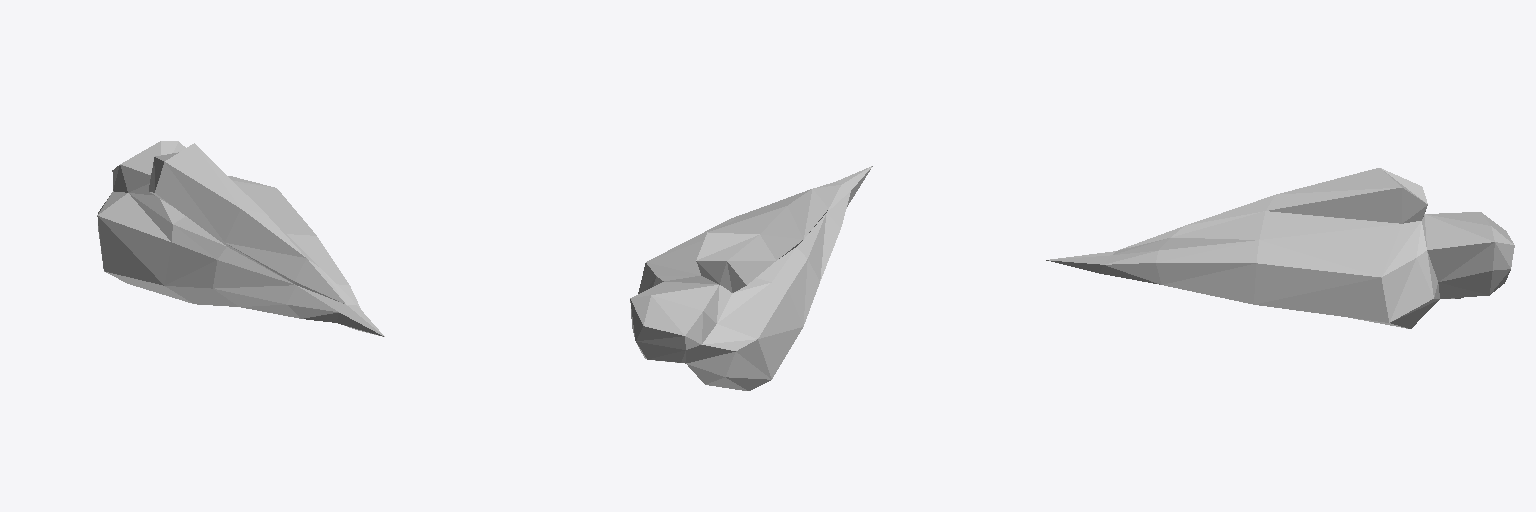
Rendered from icycle_LOW.OBJ.
The picture shows the model from 3 angles: view 1: azimuth 30°, elevation 25°; view 2: azimuth 150°, elevation 25°; view 3: azimuth 270°, elevation 25°; orthographic projection.
Parts seen in each view (by area): view 1: Plane.001; view 2: Plane.001; view 3: Plane.001.
Boxes of the visible parts, box(x1,y1,x2,y2) form: Plane.001: box(97, 141, 384, 336); Plane.001: box(630, 166, 872, 390); Plane.001: box(1046, 168, 1514, 328).
Size of the model in its own units: 1.6 by 1.34 by 4.16.